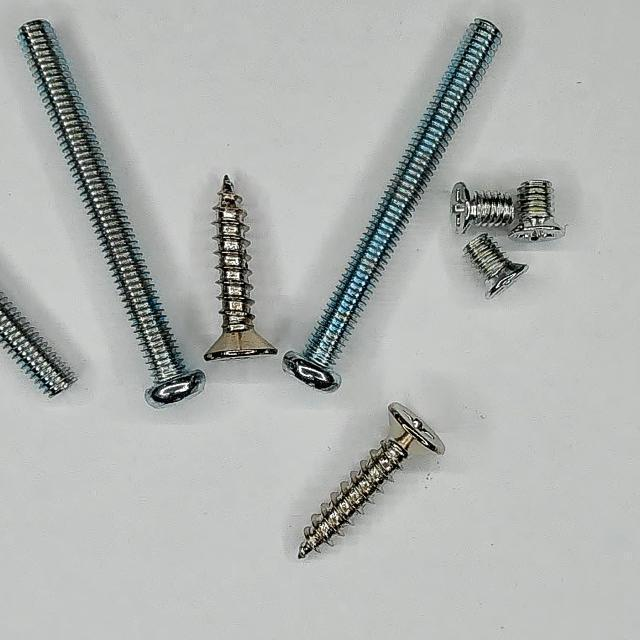Screw: (283, 18, 502, 392), (18, 19, 205, 408), (298, 403, 446, 560), (204, 175, 277, 361), (0, 291, 76, 398), (465, 233, 530, 298), (510, 180, 567, 240), (452, 182, 516, 234)
